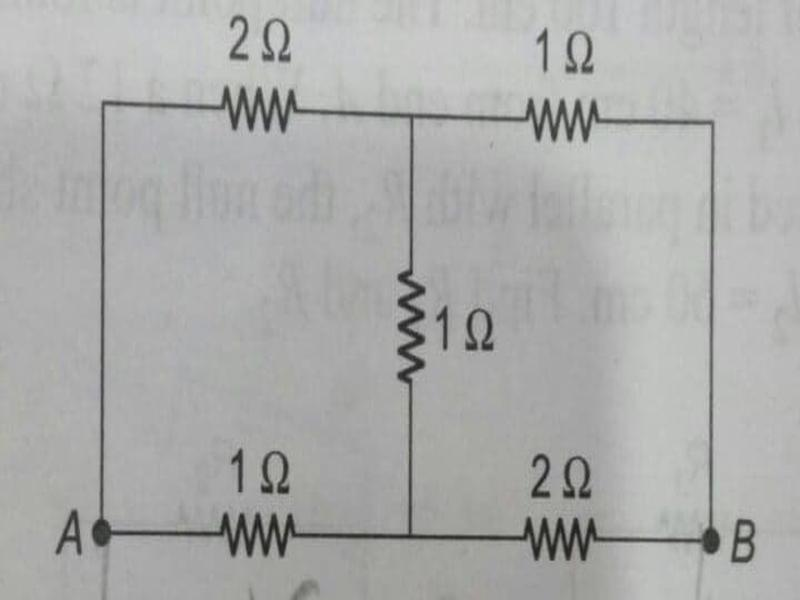resistor: (379, 261, 439, 397), (499, 92, 619, 153), (495, 511, 622, 567), (197, 81, 316, 139), (192, 509, 312, 563)
